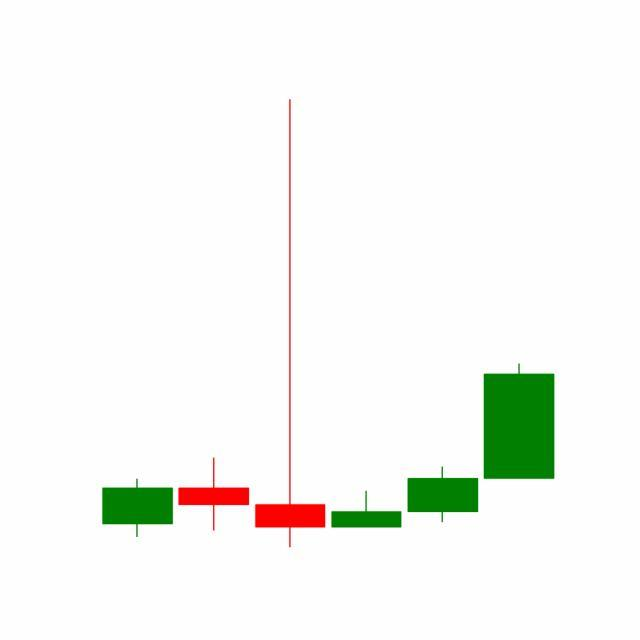Marubozu: (404, 466, 482, 524)
